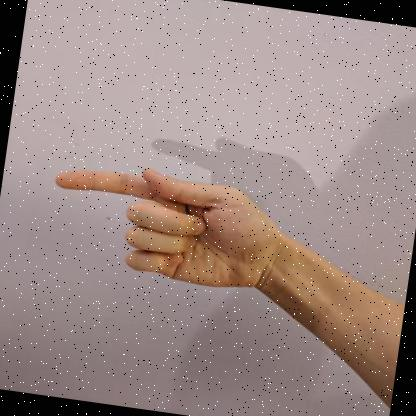G: (55, 168, 281, 299)
